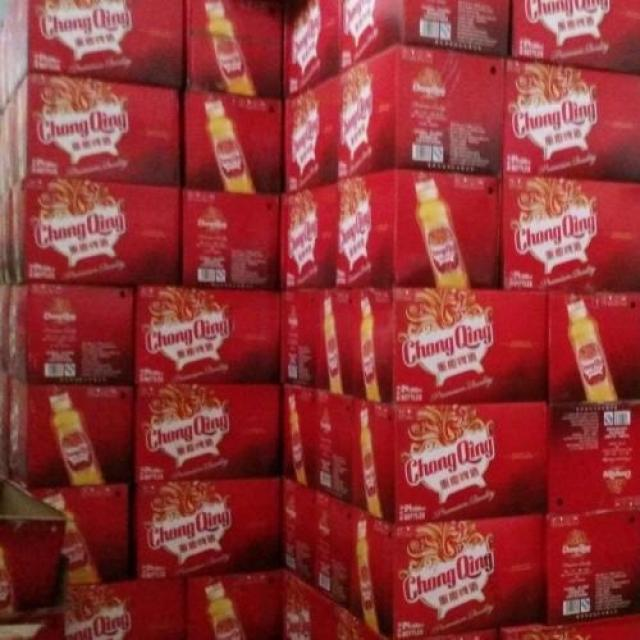box: (349, 506, 543, 640), (352, 397, 547, 525), (349, 285, 549, 403), (338, 45, 506, 178), (0, 70, 179, 191), (0, 178, 182, 284), (335, 172, 499, 285), (8, 0, 183, 100), (503, 58, 640, 183), (502, 170, 640, 293), (132, 381, 282, 483), (0, 371, 133, 486), (133, 476, 280, 579), (133, 284, 282, 381), (3, 477, 129, 584), (0, 283, 134, 383), (339, 0, 512, 74), (544, 508, 640, 622), (547, 402, 640, 515), (183, 90, 283, 195), (548, 291, 640, 404), (509, 0, 640, 76), (182, 187, 280, 287), (0, 477, 69, 618), (186, 0, 283, 97), (65, 579, 187, 640), (186, 567, 282, 640), (283, 76, 339, 195), (280, 184, 337, 288), (284, 0, 340, 99), (312, 489, 352, 609), (314, 389, 353, 503), (307, 590, 388, 640), (280, 477, 316, 584), (315, 288, 352, 392), (499, 613, 640, 640), (282, 381, 315, 489), (280, 289, 314, 387), (280, 567, 314, 640), (0, 609, 65, 640), (394, 628, 497, 640), (0, 24, 8, 109)
